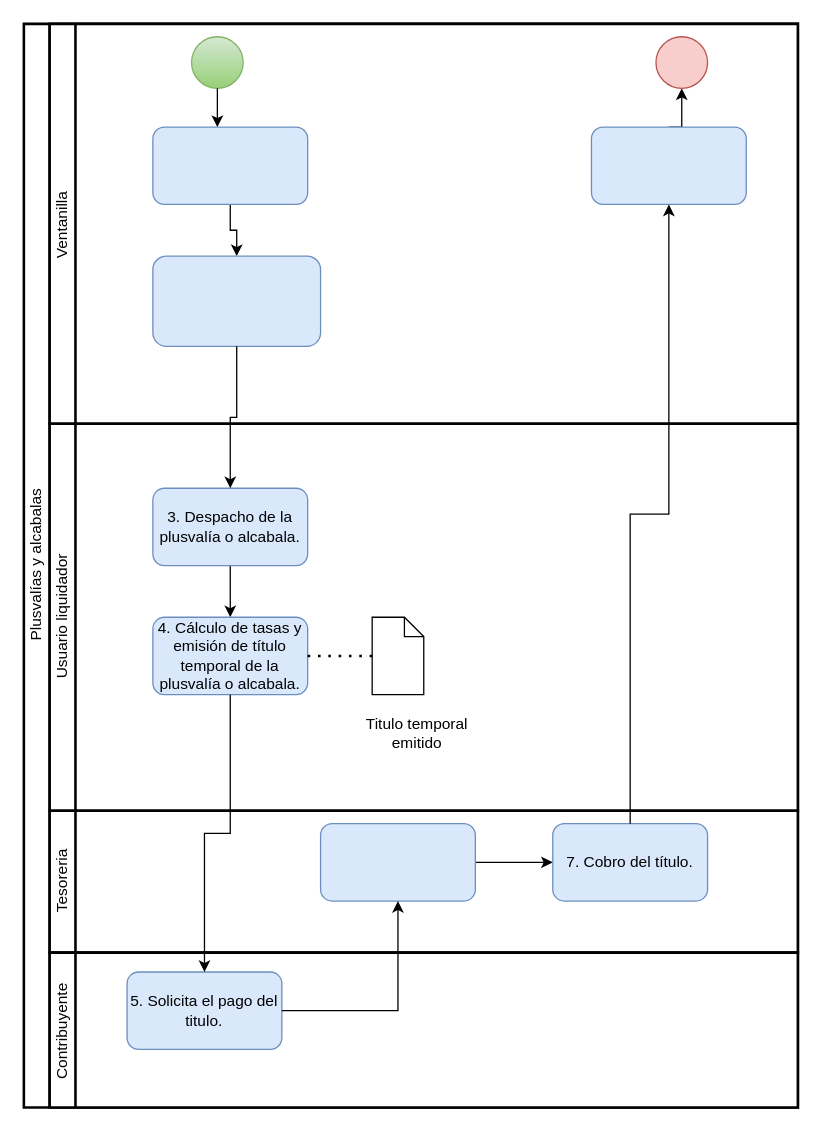
Image size: 820x1130. Some labels were removed from this diagram. Each missing label, with the box of its shape:
1. Registro de información del trámite de plusvalía o alcabala.: (152, 126, 308, 204)
2. Sorteo del inspector al ser asignado al tramite de plusvalia o alcabala.: (152, 255, 321, 346)
6. Generar un título válido.: (319, 822, 475, 901)
8. Entregar el trámite y finalizar el proceso.: (590, 126, 746, 204)
